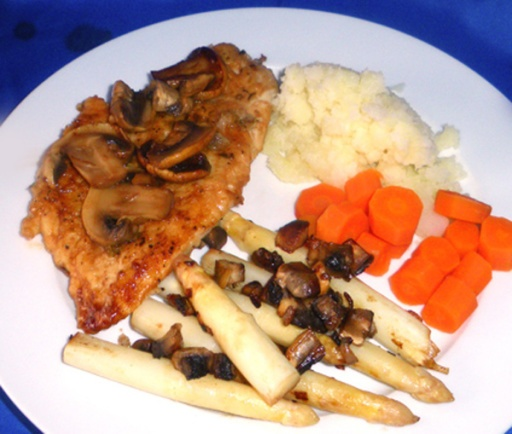background: (14, 28, 409, 290)
